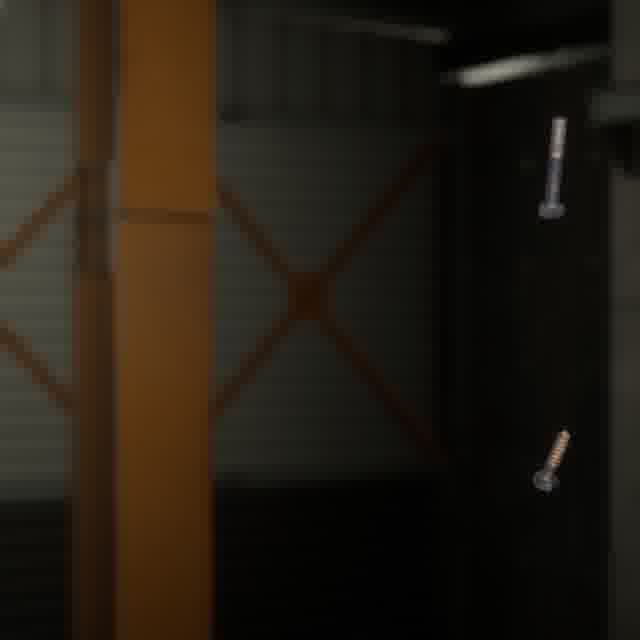bolt: (533, 112, 570, 223), (527, 425, 574, 496)
